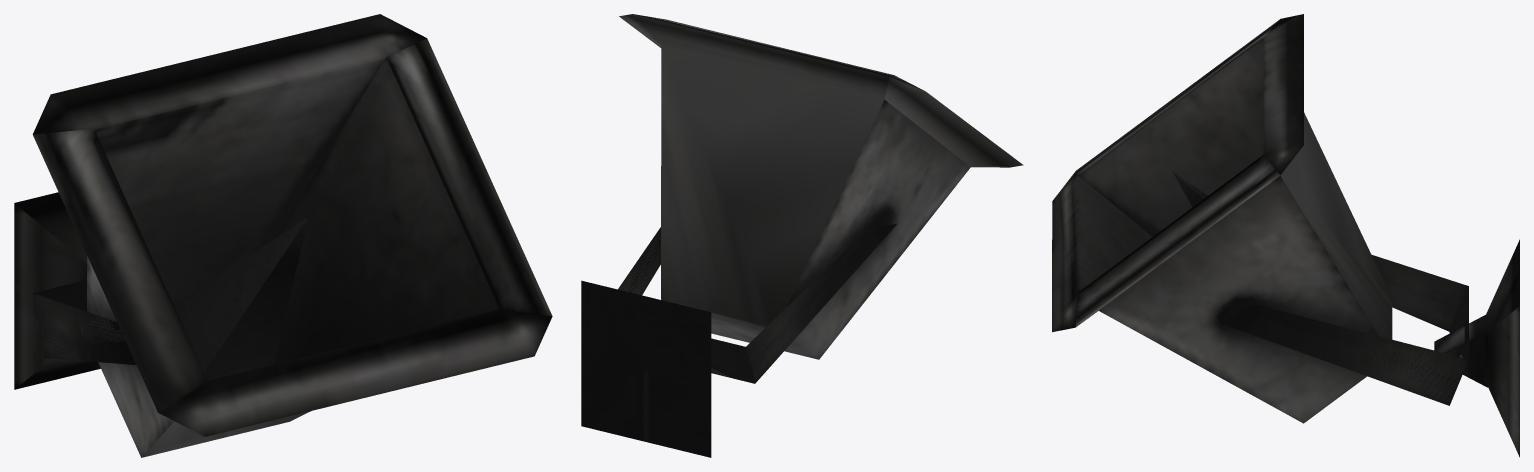
File: p_glo_loudspeaker_a_lod3.glb
3 views of the same model, side by side, from view 1: azimuth 30°, elevation 25°; view 2: azimuth 150°, elevation 25°; view 3: azimuth 270°, elevation 25° (orthographic). The views are drawn at different scales.
Parts seen in each view (by area): view 1: surf0; view 2: surf0; view 3: surf0.
Part boxes in pixels (x1,y1,x2,y2): surf0: (14, 14, 552, 457); surf0: (581, 14, 1023, 457); surf0: (1052, 14, 1519, 457).
Size of the model in its own units: 18.36 by 18.49 by 23.12.
